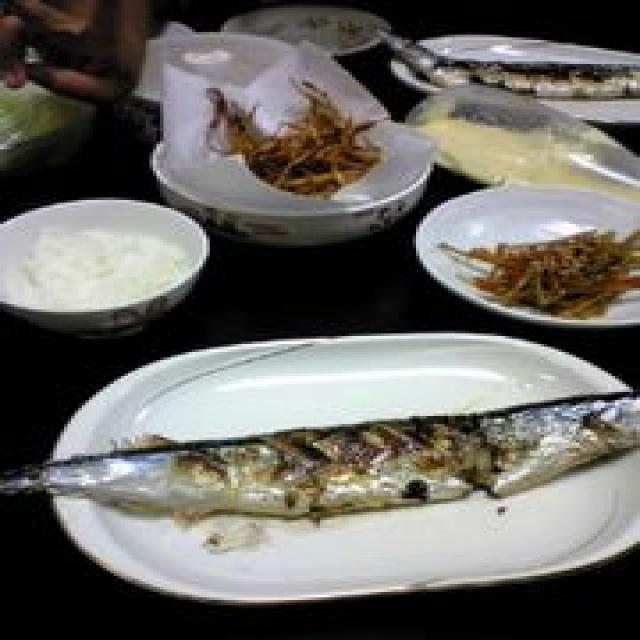熟制海鲜: (0, 362, 640, 530)
